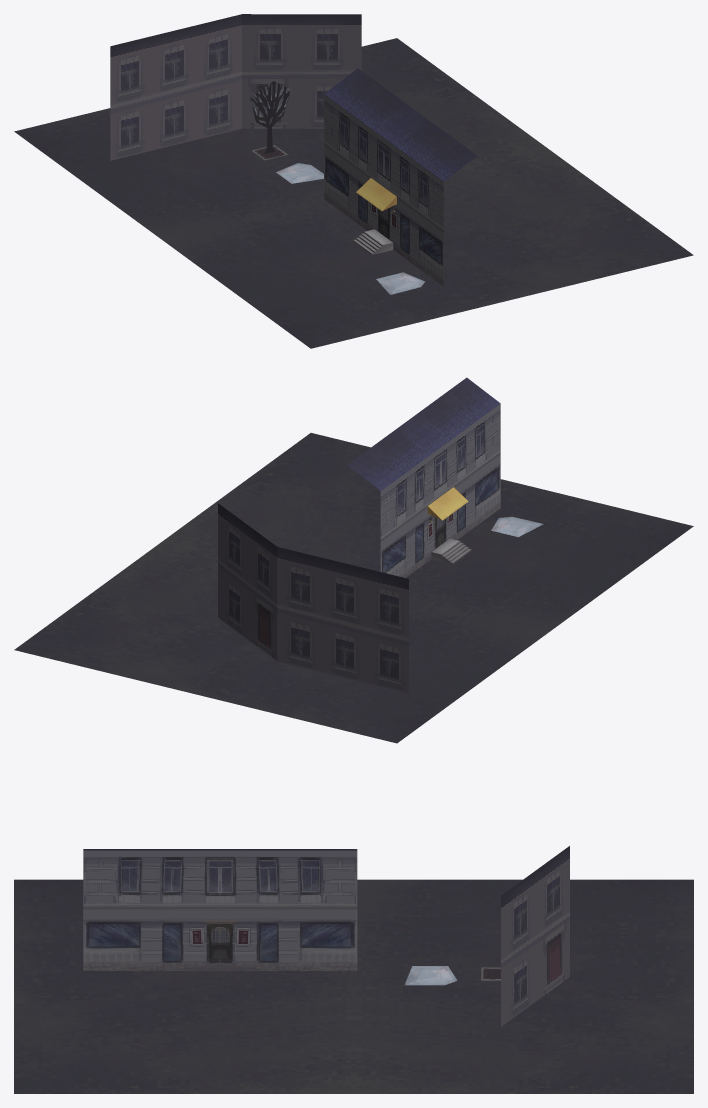
Rendered from cafe_street.gltf.
The picture shows the model from 3 angles, top to bottom: view 1: azimuth 30°, elevation 25°; view 2: azimuth 150°, elevation 25°; view 3: azimuth 270°, elevation 25°; orthographic projection. The views are drawn at different scales.
Parts seen in each view (by area): view 1: cafe_street; view 2: cafe_street; view 3: cafe_street.
Part boxes in pixels (x1,y1,x2,y2): cafe_street: (14,14,693,348); cafe_street: (14,377,693,743); cafe_street: (14,846,693,1093).
Bounding box in the file's own units: 21.83 × 6.69 × 29.3.
1 material, 1 textured.
